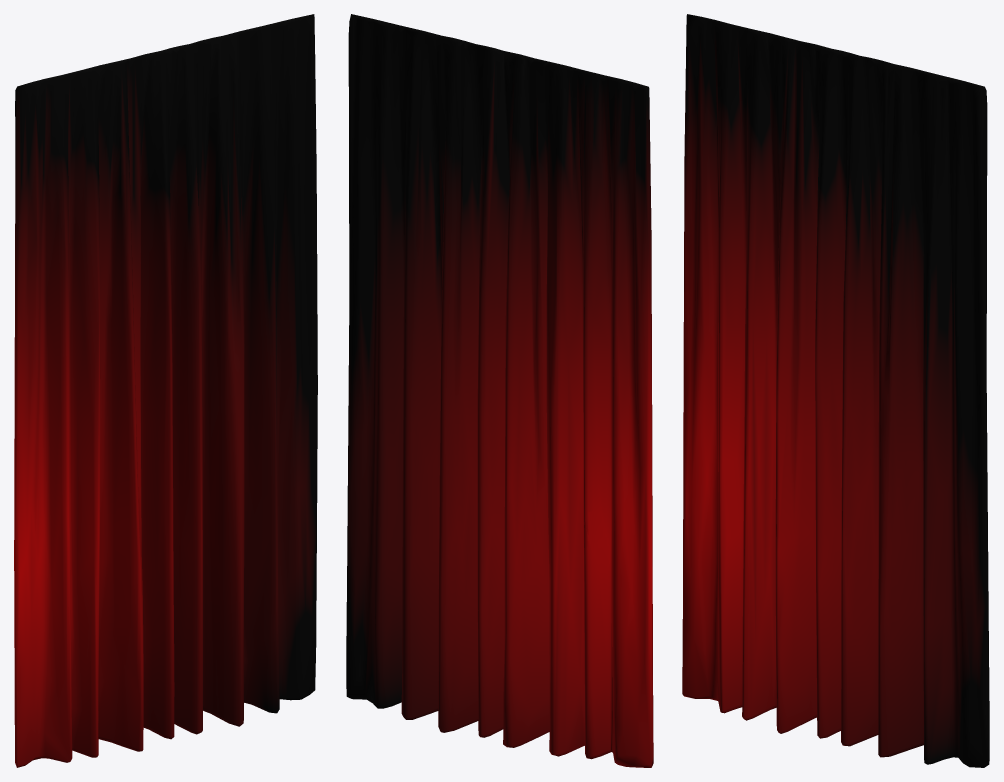
Rendered from SM_Curtain_Mover_R.fbx.
3 views of the same model, side by side, from view 1: azimuth 30°, elevation 25°; view 2: azimuth 150°, elevation 25°; view 3: azimuth 330°, elevation 25° (orthographic).
Visible parts, largest first — view 1: SM_Curtain_Mover_R; view 2: SM_Curtain_Mover_R; view 3: SM_Curtain_Mover_R.
Boxes of the visible parts, x1,y1,x2,y2 form: SM_Curtain_Mover_R: (14,14,317,767); SM_Curtain_Mover_R: (346,14,653,767); SM_Curtain_Mover_R: (682,14,989,767).
Bounding box in the file's own units: 0.929 × 2 × 0.1836.
